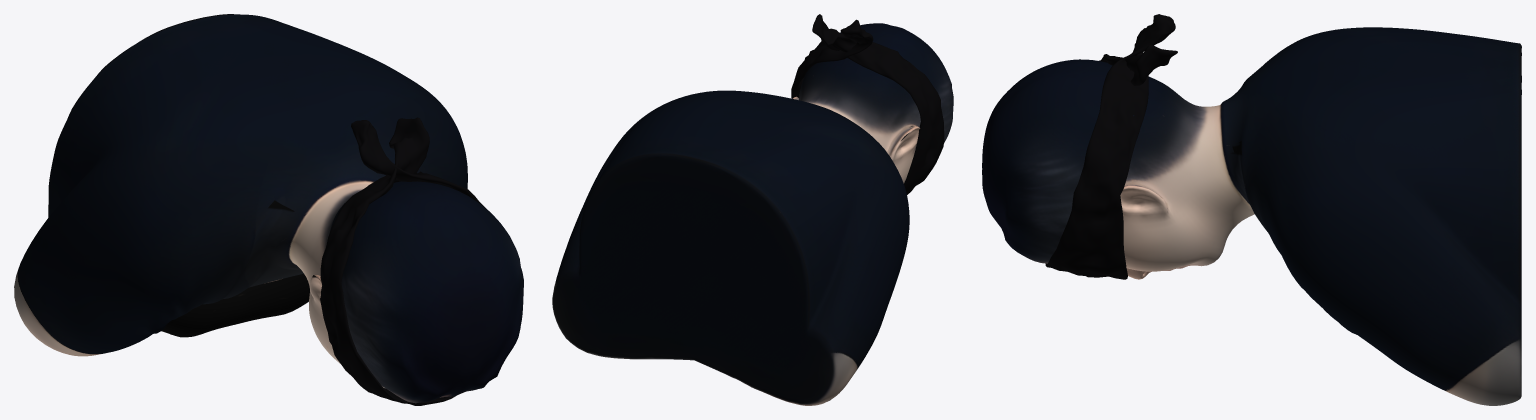
File: eye_mask.obj
The picture shows the model from 3 angles, left to right: view 1: azimuth 30°, elevation 25°; view 2: azimuth 150°, elevation 25°; view 3: azimuth 270°, elevation 25°; orthographic projection. The views are drawn at different scales.
Visible parts, largest first — view 1: model, eye_mask; view 2: model, eye_mask; view 3: model, eye_mask.
Part boxes in pixels (x1,y1,x2,y2): model: [14, 14, 523, 403]; eye_mask: [320, 117, 494, 405]; model: [552, 23, 953, 405]; eye_mask: [791, 14, 944, 194]; model: [982, 27, 1521, 405]; eye_mask: [1045, 14, 1177, 279].
Bounding box in the file's own units: 1.47 × 1.23 × 1.9.
Materials: 2 (1 with a texture image).
